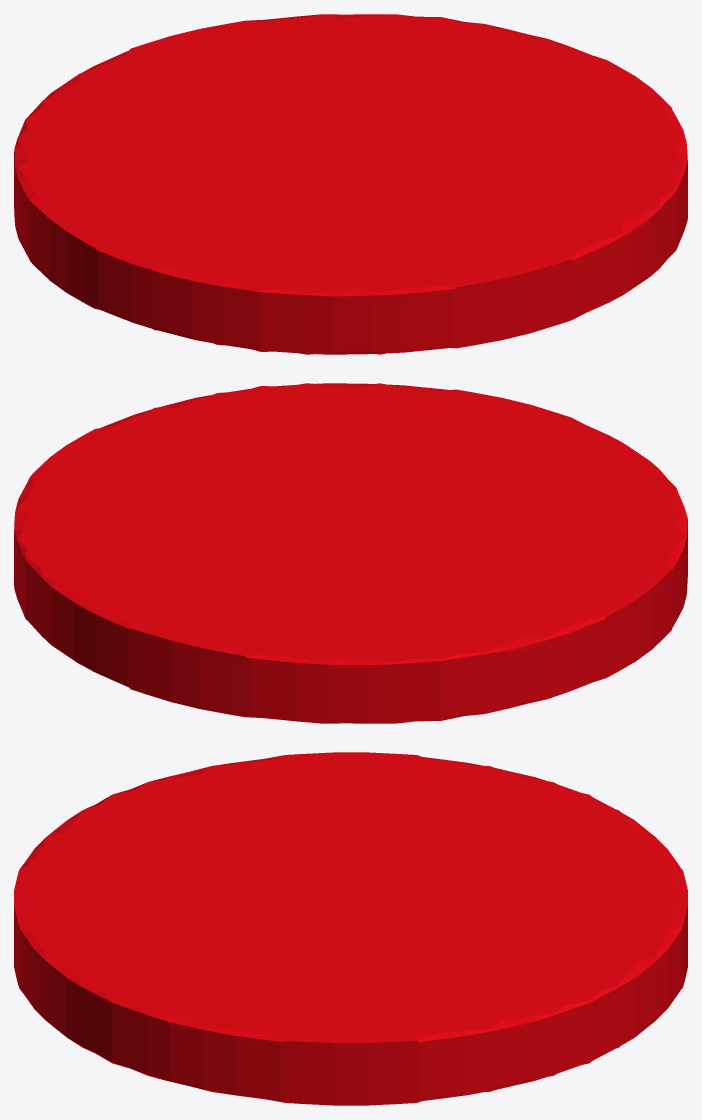
Rendered from footpoint.glb.
3 renders of one model, top to bottom at view 1: azimuth 30°, elevation 25°; view 2: azimuth 150°, elevation 25°; view 3: azimuth 270°, elevation 25°, orthographic.
Visible parts, largest first — view 1: Cylinder; view 2: Cylinder; view 3: Cylinder.
Part boxes in pixels (x1=…): Cylinder: x1=14, y1=14, x2=687, y2=354; Cylinder: x1=14, y1=383, x2=687, y2=723; Cylinder: x1=14, y1=752, x2=687, y2=1105.
Bounding box in the file's own units: 1.22 × 0.123 × 1.19.
